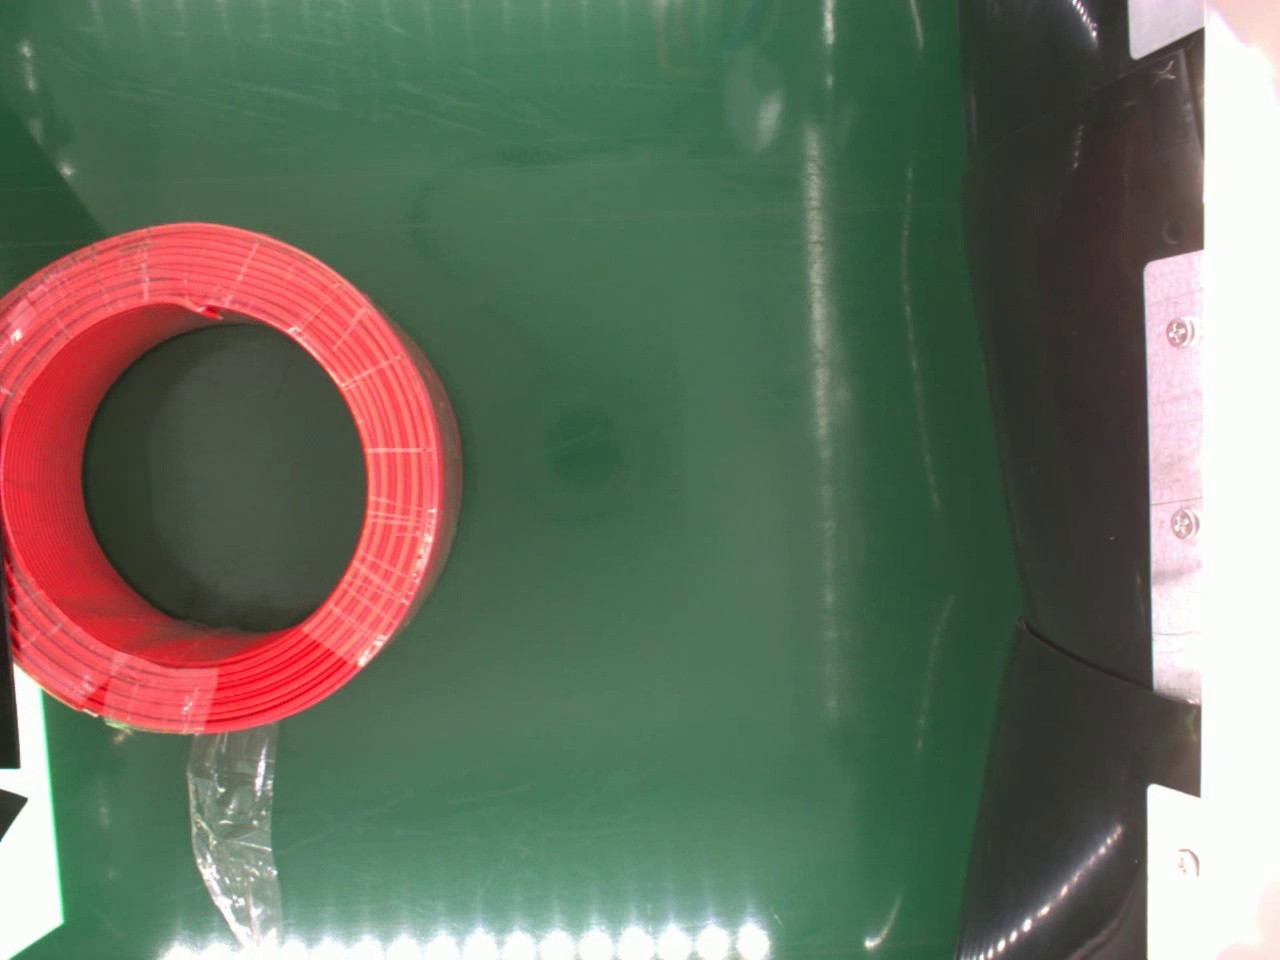red: (4, 219, 463, 733)
